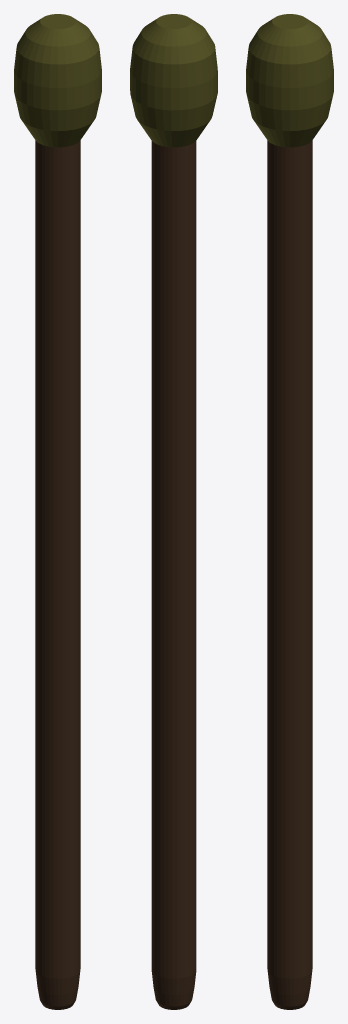
File: Torch_Ground.fbx
3 renders of one model, left to right at view 1: azimuth 90°, elevation 25°; view 2: azimuth 210°, elevation 25°; view 3: azimuth 270°, elevation 25°, orthographic.
Parts seen in each view (by area): view 1: Stick, Docht; view 2: Stick, Docht; view 3: Stick, Docht.
Part boxes in pixels (<box>): Stick: <box>35,140,80,1009</box>; Docht: <box>14,14,101,147</box>; Stick: <box>151,141,196,1009</box>; Docht: <box>130,14,217,147</box>; Stick: <box>267,140,312,1009</box>; Docht: <box>246,14,333,147</box>.
Bounding box in the file's own units: 11.72 × 144 × 11.72.
